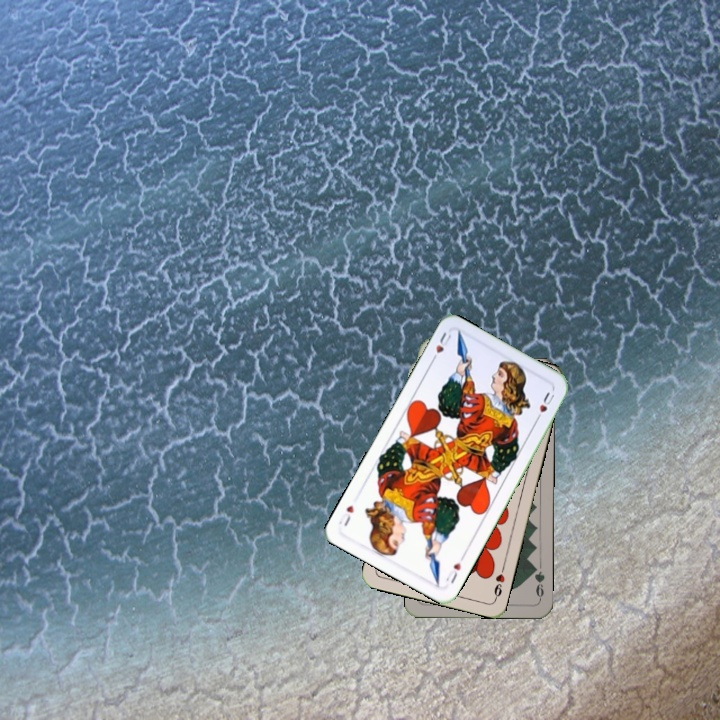G9: (529, 562, 547, 602)
H9: (490, 562, 508, 602)
HU: (427, 327, 455, 365), (442, 551, 467, 586)
